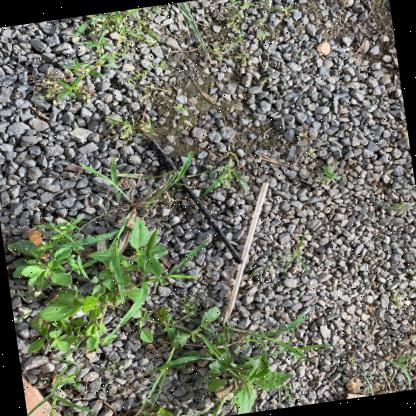Cigarette: (26, 230, 47, 260)
Plastic straw: (149, 139, 243, 263), (223, 182, 269, 324)
